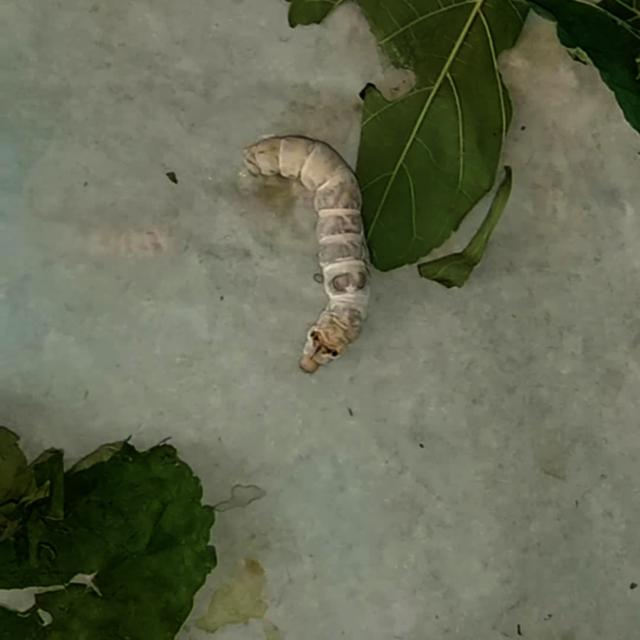Grasserie: (240, 120, 392, 380)
